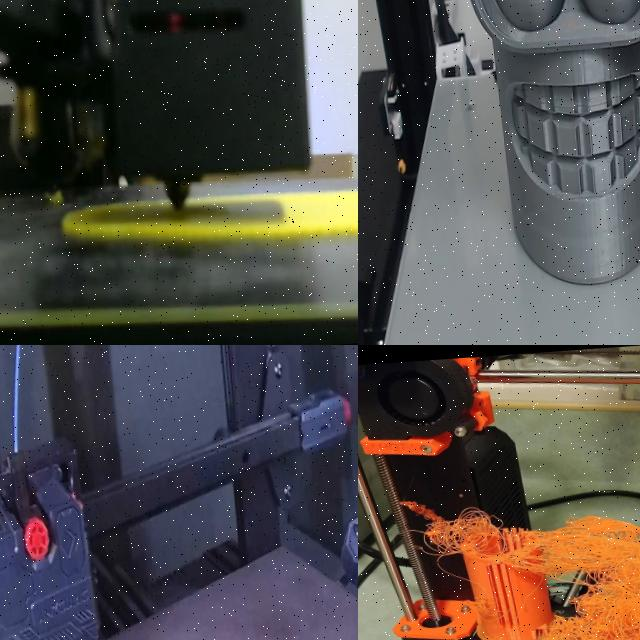spaghetti: (395, 484, 640, 640)
